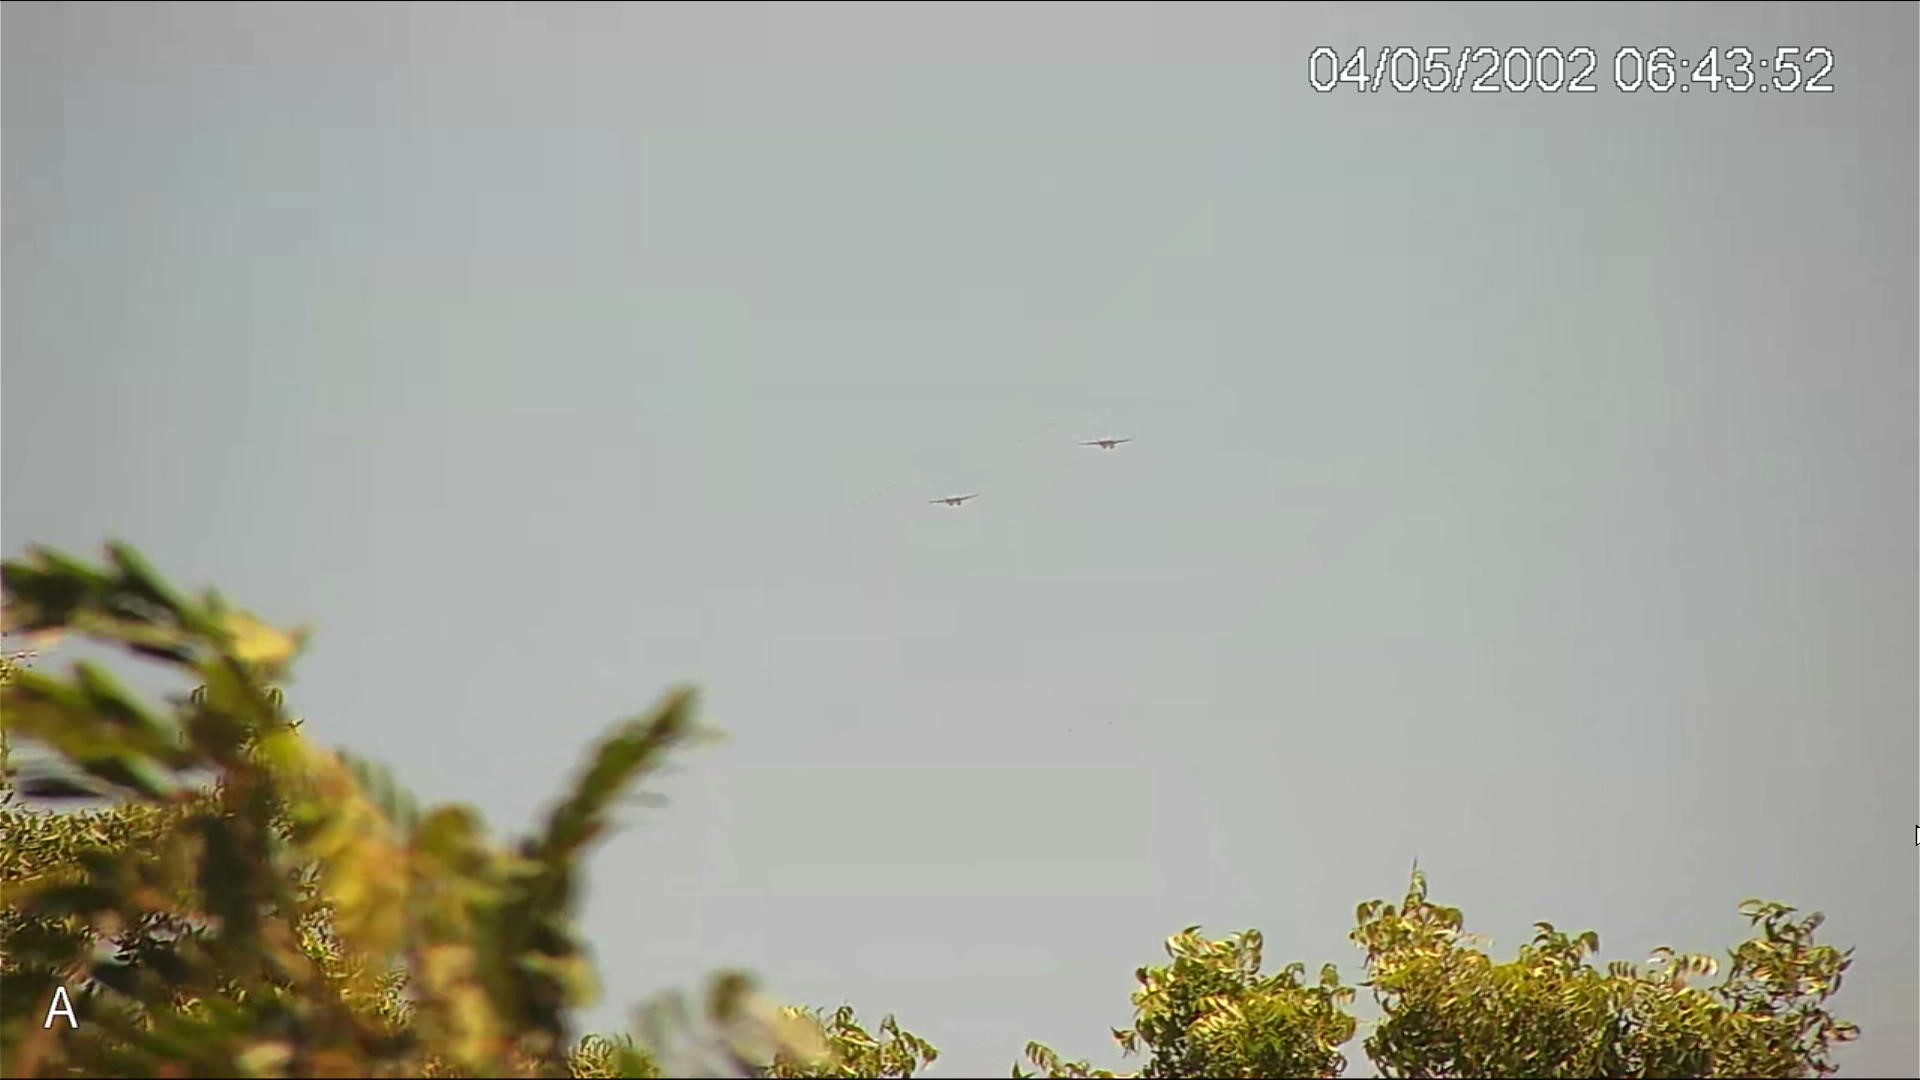SU_30: (922, 492, 986, 509), (1073, 433, 1133, 451)
